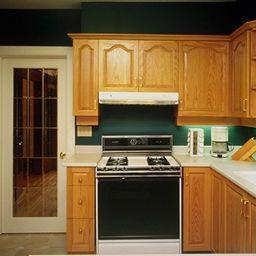Electrodomestico: (99, 134, 180, 255)
Puerta: (1, 50, 66, 232)
